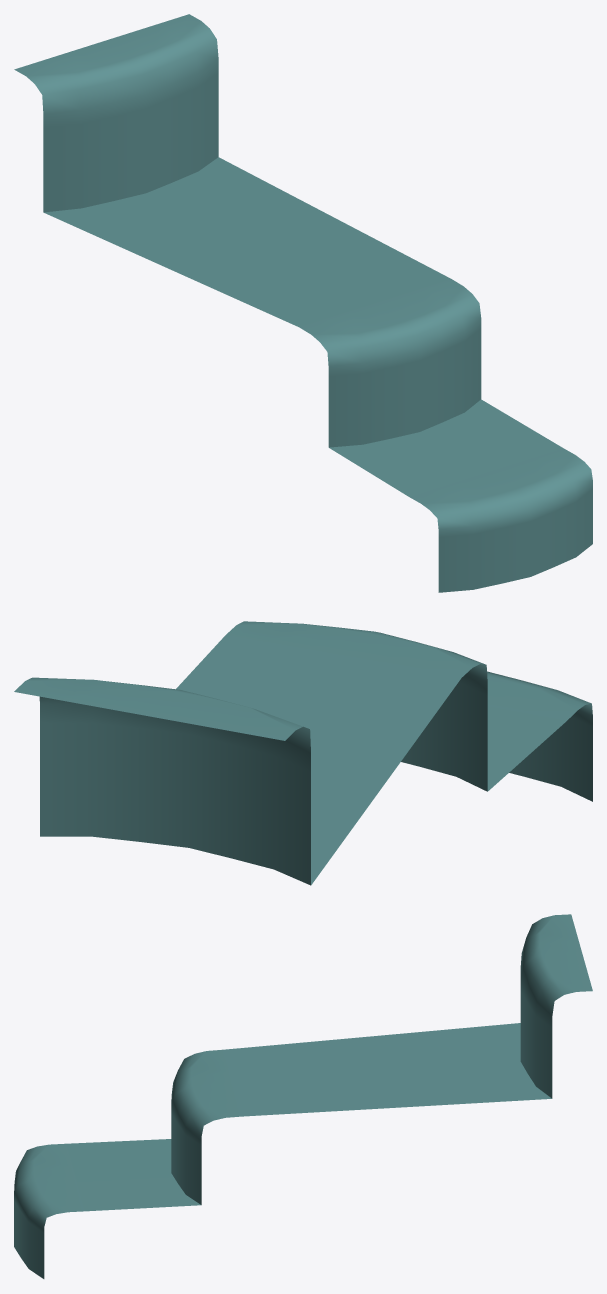
3 renders of one model, top to bottom at view 1: azimuth 30°, elevation 25°; view 2: azimuth 150°, elevation 25°; view 3: azimuth 270°, elevation 25°, orthographic. The views are drawn at different scales.
Visible parts, largest first — view 1: pPlane2; view 2: pPlane2; view 3: pPlane2.
Part boxes in pixels (box(x1,y1,x2,y2)): pPlane2: box(14, 14, 592, 592); pPlane2: box(14, 621, 592, 885); pPlane2: box(14, 914, 592, 1278).
Size of the model in its own units: 28.53 by 31.85 by 64.86.
